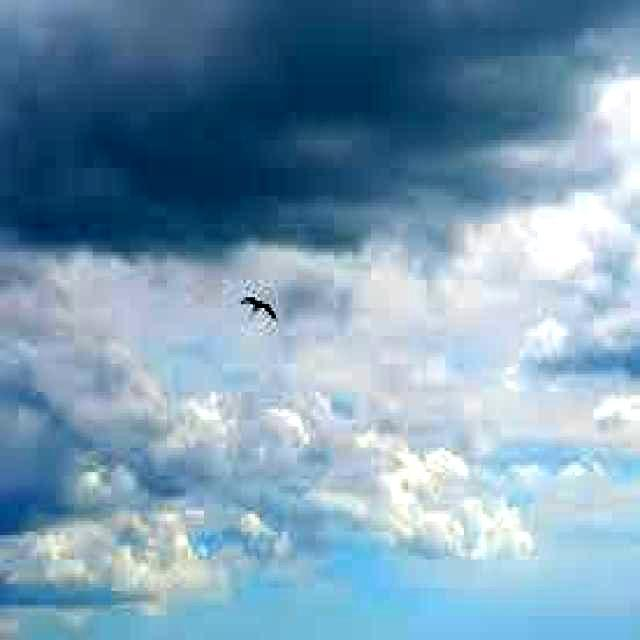bird: (237, 286, 281, 326)
